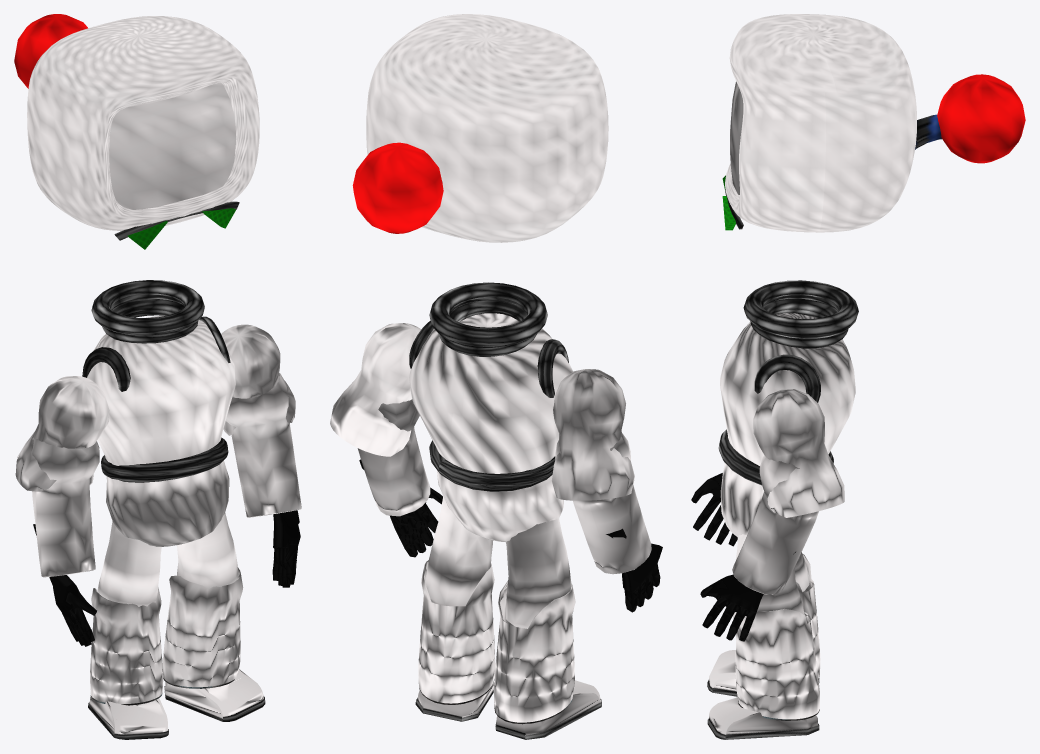
Rendered from marvin.obj.
3 renders of one model, left to right at view 1: azimuth 30°, elevation 25°; view 2: azimuth 150°, elevation 25°; view 3: azimuth 270°, elevation 25°, orthographic. The views are drawn at different scales.
Visible parts, largest first — view 1: Helmet, Body, Face, Torus02, Arm_Right_02, Arm_Left_02, Torus01, Neck_upper, Arm_Right_01, Arm_Right_03, Arm_Left_01, Arm_Right_05 (+7 smaller); view 2: Helmet, Body, Arm_Right_01, Torus01, Torus02, Arm_Left_01, Antenne_sphere, Neck_upper, Arm_Right_03, Arm_Right_02, Arm_Left_02, Arm_Right_05 (+5 smaller); view 3: Helmet, Body, Torus02, Arm_Left_01, Antenne_sphere, Neck_upper, Arm_Left_02, Foot_Right01, Hand_Left, Shoulder_Left, Hand_Right, Arm_Right_05 (+4 smaller).
Part boxes in pixels (box(x1,y1,x2,y2)): Helmet: box(27, 16, 259, 230); Body: box(87, 315, 236, 546); Face: box(109, 82, 236, 209); Torus02: box(162, 567, 243, 688); Arm_Right_02: box(31, 437, 99, 577); Arm_Left_02: box(225, 373, 301, 517); Torus01: box(90, 587, 163, 705); Neck_upper: box(91, 280, 204, 343); Arm_Right_01: box(15, 376, 109, 491); Arm_Right_03: box(97, 521, 161, 606); Arm_Left_01: box(221, 324, 295, 435); Arm_Right_05: box(177, 512, 238, 589); Helmet: box(366, 14, 608, 242); Body: box(409, 313, 572, 542); Arm_Right_01: box(551, 369, 634, 500); Torus01: box(493, 581, 575, 724); Torus02: box(418, 560, 495, 704); Arm_Left_01: box(330, 323, 421, 456); Antenne_sphere: box(352, 142, 443, 233); Neck_upper: box(429, 282, 547, 356); Arm_Right_03: box(506, 519, 571, 628); Arm_Right_02: box(555, 433, 651, 574); Arm_Left_02: box(357, 399, 430, 516); Arm_Right_05: box(425, 496, 493, 606); Helmet: box(725, 14, 916, 232); Body: box(718, 313, 855, 537); Torus02: box(732, 609, 819, 720); Arm_Left_01: box(753, 389, 844, 517); Antenne_sphere: box(937, 74, 1025, 163); Neck_upper: box(743, 280, 858, 348); Arm_Left_02: box(732, 455, 818, 594); Foot_Right01: box(707, 697, 819, 739); Hand_Left: box(700, 552, 795, 641); Shoulder_Left: box(754, 354, 820, 402); Hand_Right: box(691, 473, 737, 546); Arm_Right_05: box(735, 534, 804, 615).
Size of the model in its own units: 119 by 274 by 124.
